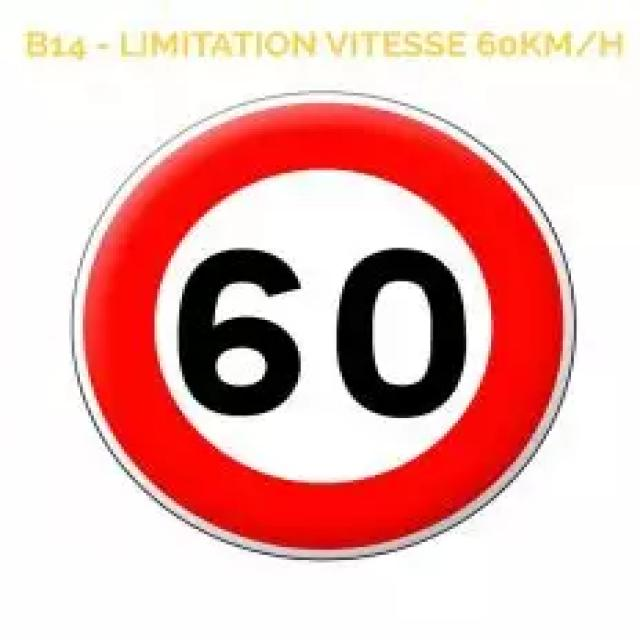speed_60: (70, 92, 580, 564)
